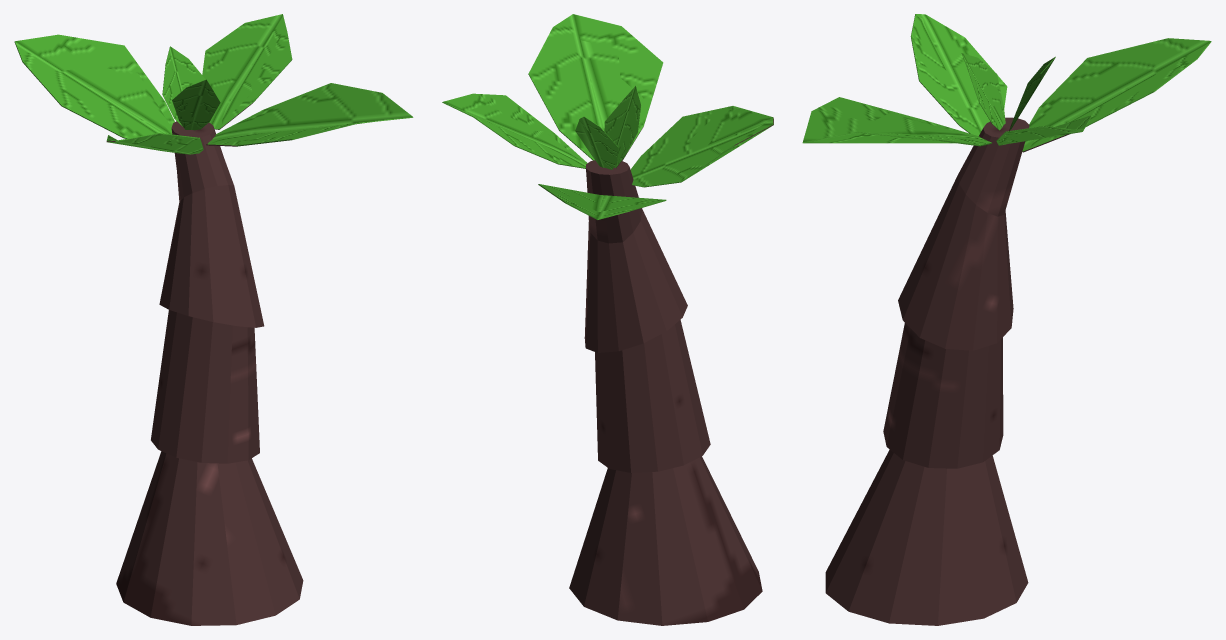
Rendered from Palmera2.fbx.
The picture shows the model from 3 angles, left to right: view 1: azimuth 30°, elevation 25°; view 2: azimuth 150°, elevation 25°; view 3: azimuth 270°, elevation 25°; orthographic projection. The views are drawn at different scales.
Visible parts, largest first — view 1: Palmera 2; view 2: Palmera 2; view 3: Palmera 2.
Part boxes in pixels (left/top/right/bottom): Palmera 2: left=14, top=14, right=413, bottom=625; Palmera 2: left=442, top=14, right=773, bottom=625; Palmera 2: left=802, top=14, right=1211, bottom=625.
Bounding box in the file's own units: 445 × 576 × 834.
Materials: 1 (1 with a texture image).
